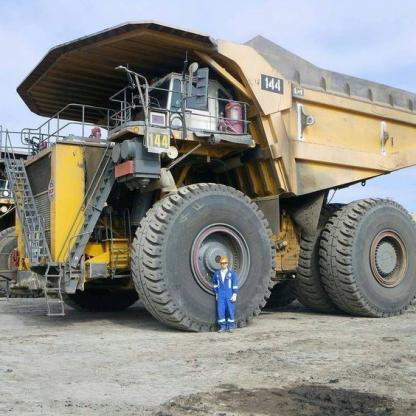dump_truck: (1, 18, 414, 335)
person: (209, 251, 240, 340)
